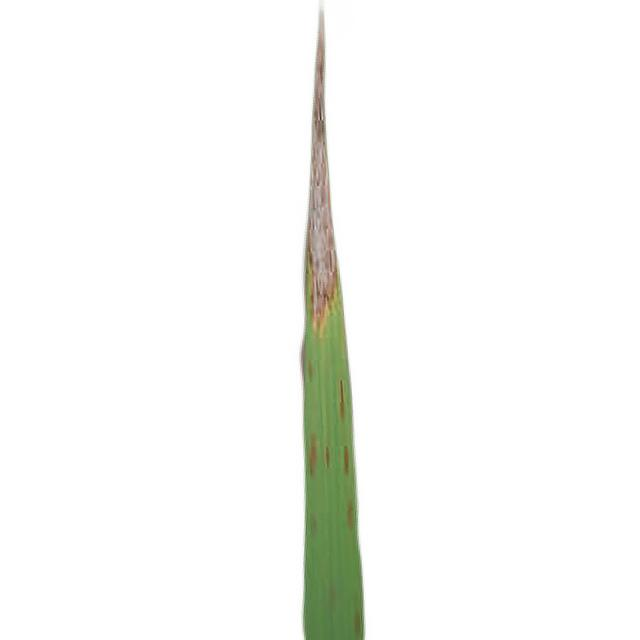Leaf scald: (203, 0, 492, 640)
